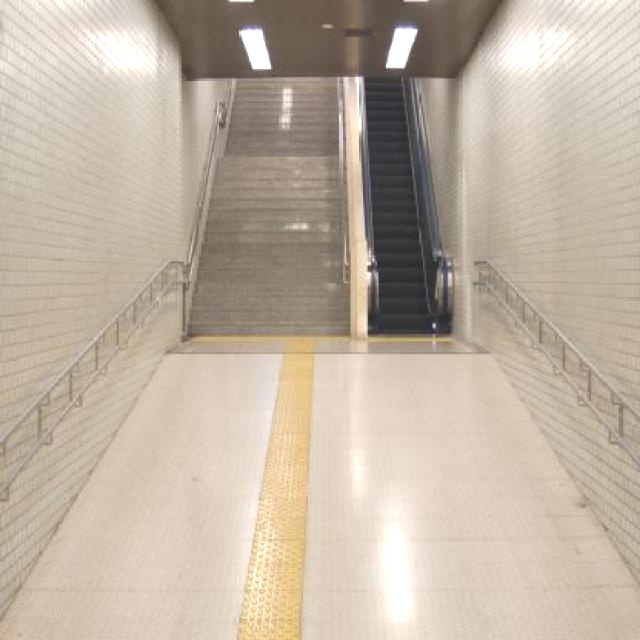stair: (183, 77, 351, 338), (363, 77, 435, 332)
